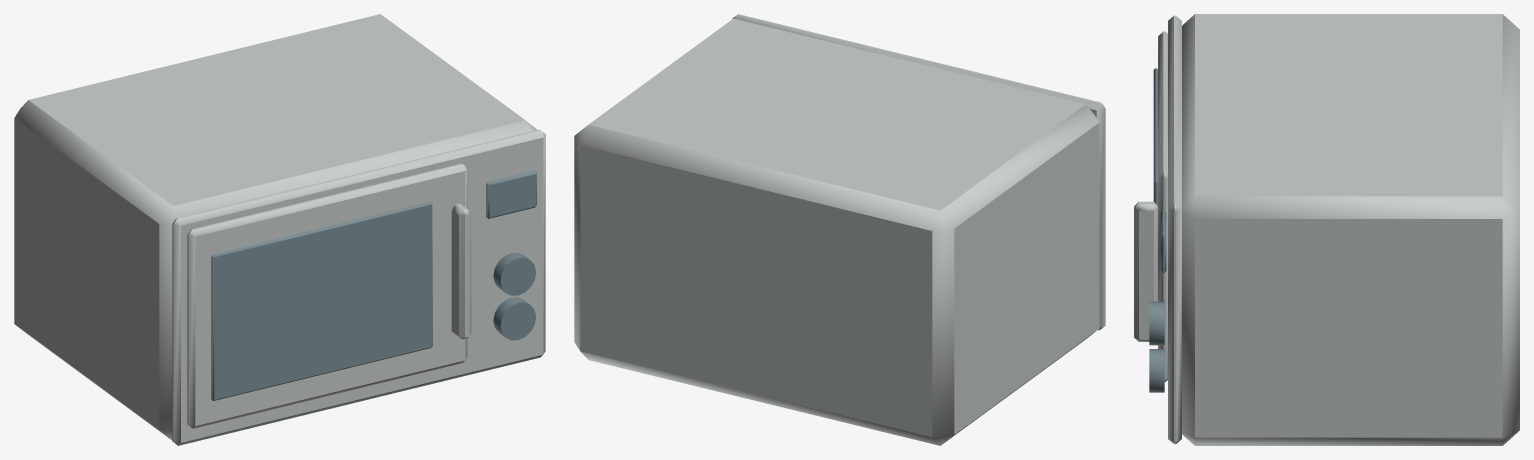
Rendered from microwave.glb.
3 views of the same model, side by side, from view 1: azimuth 30°, elevation 25°; view 2: azimuth 150°, elevation 25°; view 3: azimuth 270°, elevation 25° (orthographic). The views are drawn at different scales.
Parts seen in each view (by area): view 1: oven_body, window, front_fascia, door_frame, door_pull, display, dial.001, dial; view 2: oven_body, front_fascia; view 3: oven_body, front_fascia, door_pull, door_frame, dial.001, dial, window, display.
Boxes of the visible parts, x1=… form: oven_body: x1=14, y1=14, x2=537, y2=440; window: x1=211, y1=201, x2=432, y2=400; front_fascia: x1=172, y1=129, x2=545, y2=445; door_frame: x1=187, y1=163, x2=467, y2=428; door_pull: x1=451, y1=203, x2=471, y2=339; display: x1=486, y1=171, x2=536, y2=218; dial.001: x1=493, y1=252, x2=535, y2=295; dial: x1=493, y1=297, x2=535, y2=340; oven_body: x1=574, y1=18, x2=1099, y2=445; front_fascia: x1=732, y1=14, x2=1105, y2=330; oven_body: x1=1182, y1=14, x2=1519, y2=445; front_fascia: x1=1168, y1=15, x2=1181, y2=444; door_pull: x1=1134, y1=201, x2=1157, y2=341; door_frame: x1=1158, y1=31, x2=1167, y2=382; dial.001: x1=1149, y1=301, x2=1164, y2=345; dial: x1=1149, y1=349, x2=1164, y2=392; window: x1=1153, y1=68, x2=1157, y2=204; display: x1=1160, y1=210, x2=1166, y2=272.
Size of the model in its own units: 0.49 by 0.3 by 0.406.
